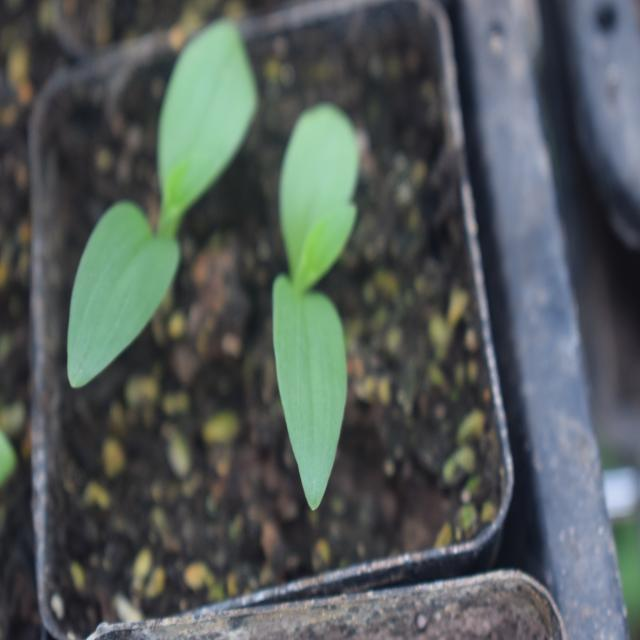Common Dayflower: (66, 34, 258, 362), (265, 87, 376, 509)
